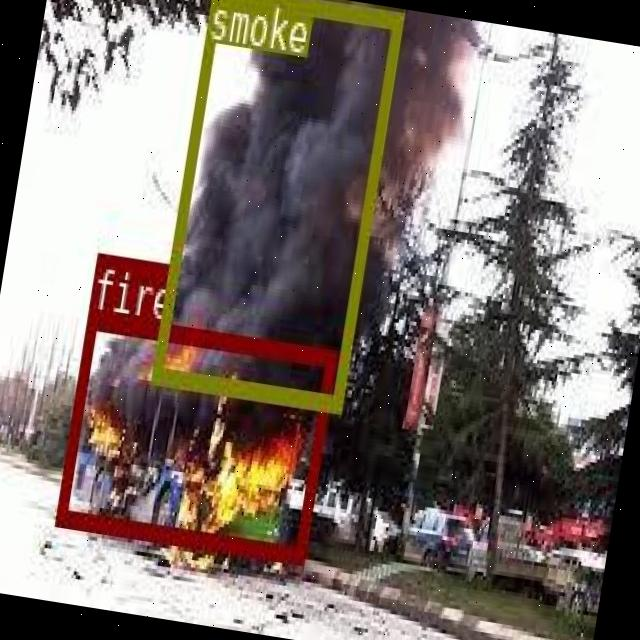fire: (54, 309, 335, 561)
smoke: (149, 0, 403, 411)
